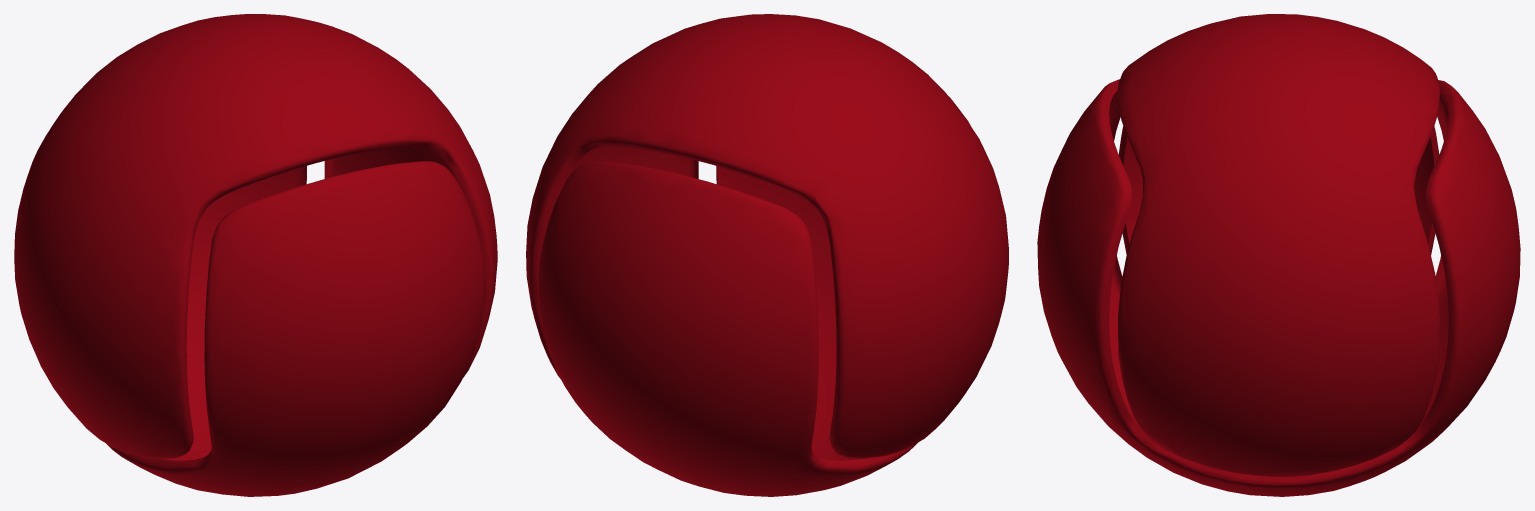
The model's file is ball_red.glb.
3 renders of one model, left to right at view 1: azimuth 30°, elevation 25°; view 2: azimuth 150°, elevation 25°; view 3: azimuth 270°, elevation 25°, orthographic.
Parts seen in each view (by area): view 1: ball_red; view 2: ball_red; view 3: ball_red.
Boxes of the visible parts, box(x1,y1,x2,y2) form: ball_red: box(14, 14, 497, 496); ball_red: box(526, 14, 1008, 496); ball_red: box(1037, 14, 1520, 496).
Size of the model in its own units: 0.066 by 0.066 by 0.066.
